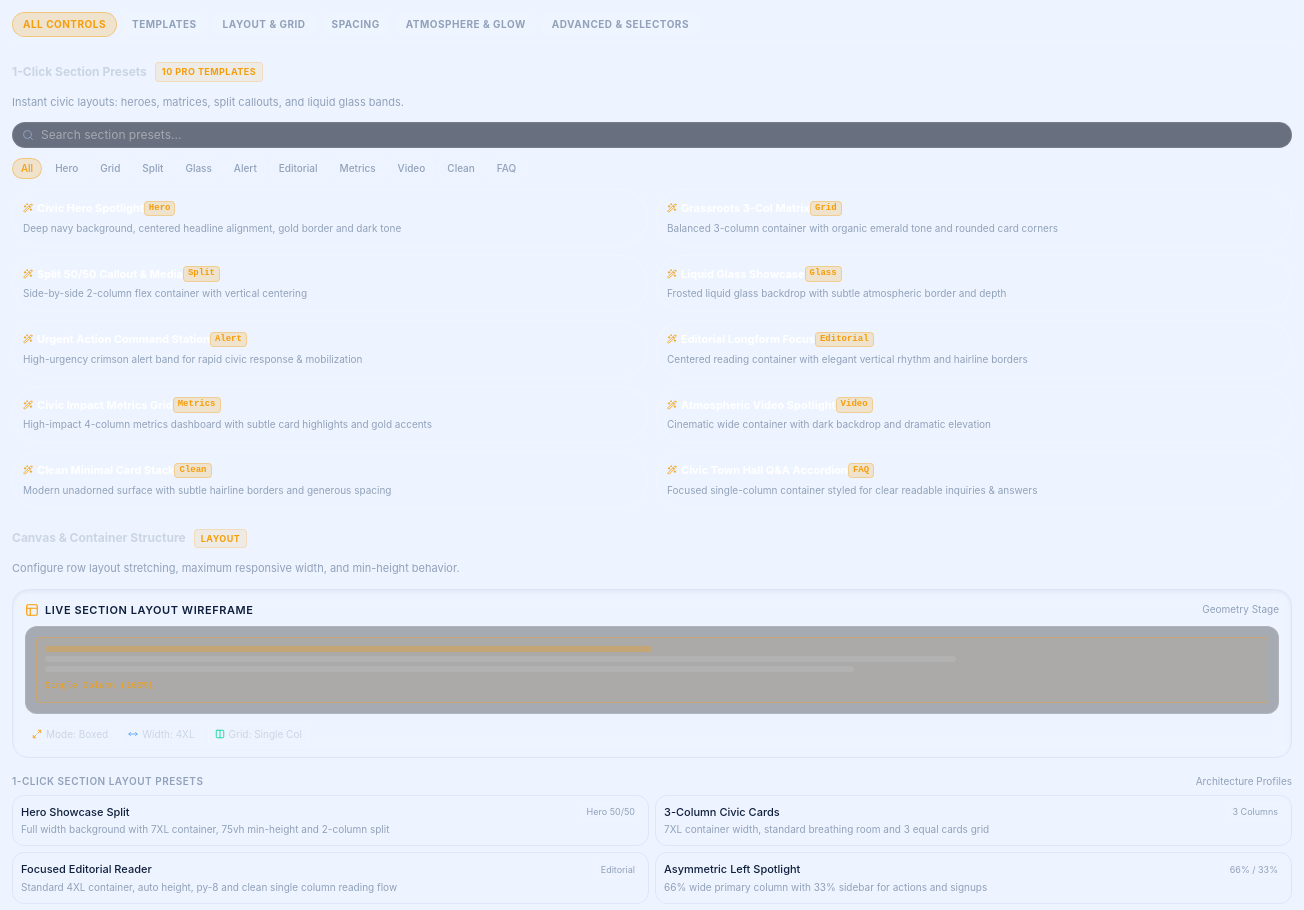
Test case: SectionStudio › filters controls when clicking sub-tab buttons
Click the button "Templates" at x=164, y=24, box [121,12,208,37]
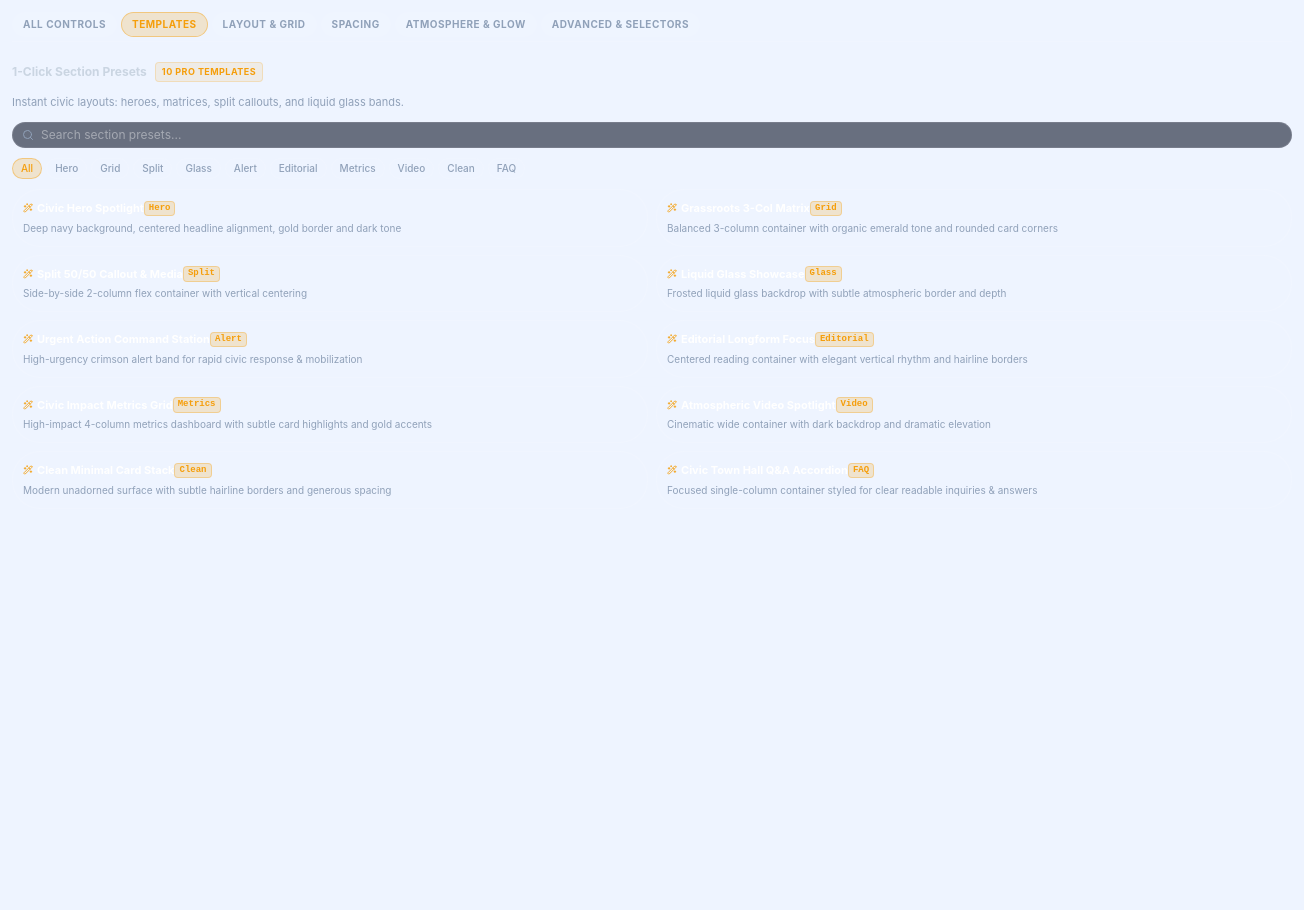
Expected: the text "1-Click Section Presets" is shown, [12,64,147,80]
Expected: the text "Canvas & Container Structure" is gone
